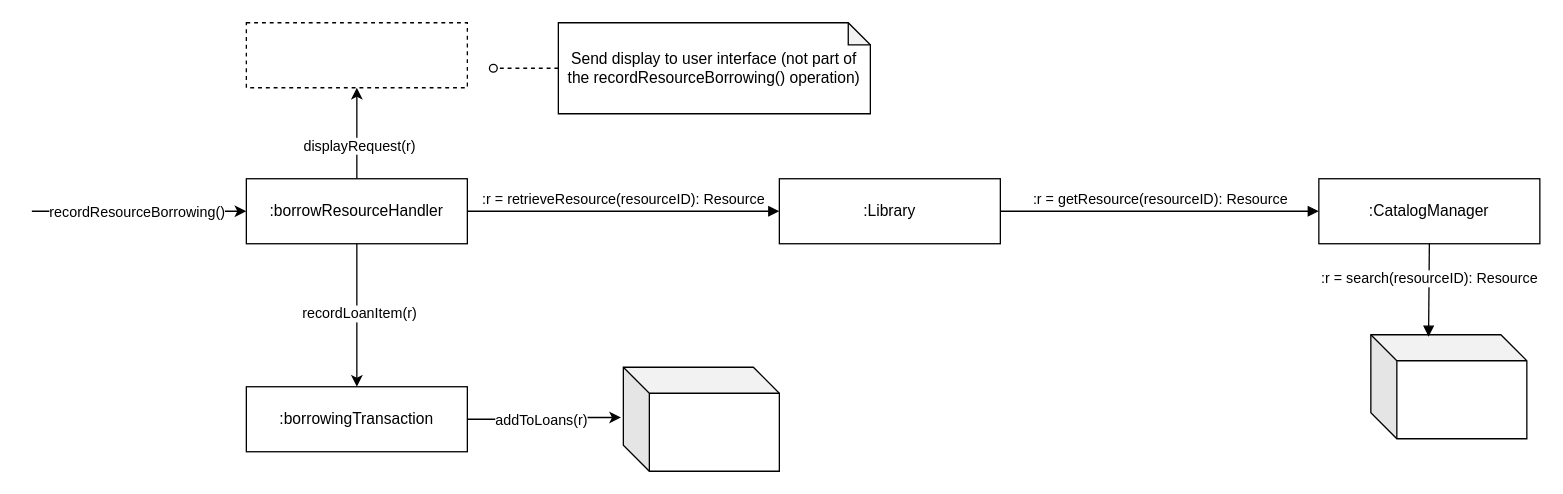
Some shapes in this 1563 by 494 pixel diagram are drawn without their labels. The centre of each missing label's shape, as x and y in pixels:
":catalog" belongs at pixel 1448 386.
":Display" belongs at pixel 356 54.
":loan" belongs at pixel 700 418.
